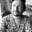face: (9, 1, 25, 17)
